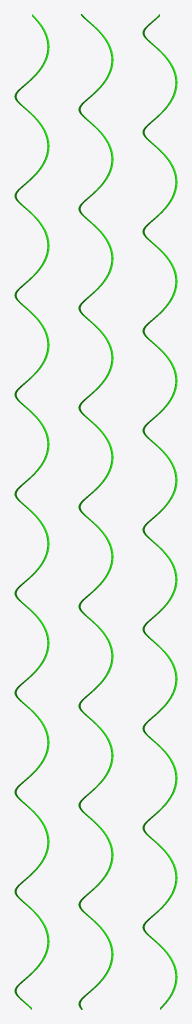
Rendered from spiral L.glb.
3 renders of one model, left to right at view 1: azimuth 90°, elevation 25°; view 2: azimuth 150°, elevation 25°; view 3: azimuth 270°, elevation 25°, orthographic.
Parts seen in each view (by area): view 1: Circle; view 2: Circle; view 3: Circle.
Boxes of the visible parts, box(x1,y1,x2,y2) form: Circle: box(14, 14, 49, 1009); Circle: box(78, 14, 113, 1009); Circle: box(142, 14, 177, 1009).
Bounding box in the file's own units: 6.4 × 200 × 6.4.
